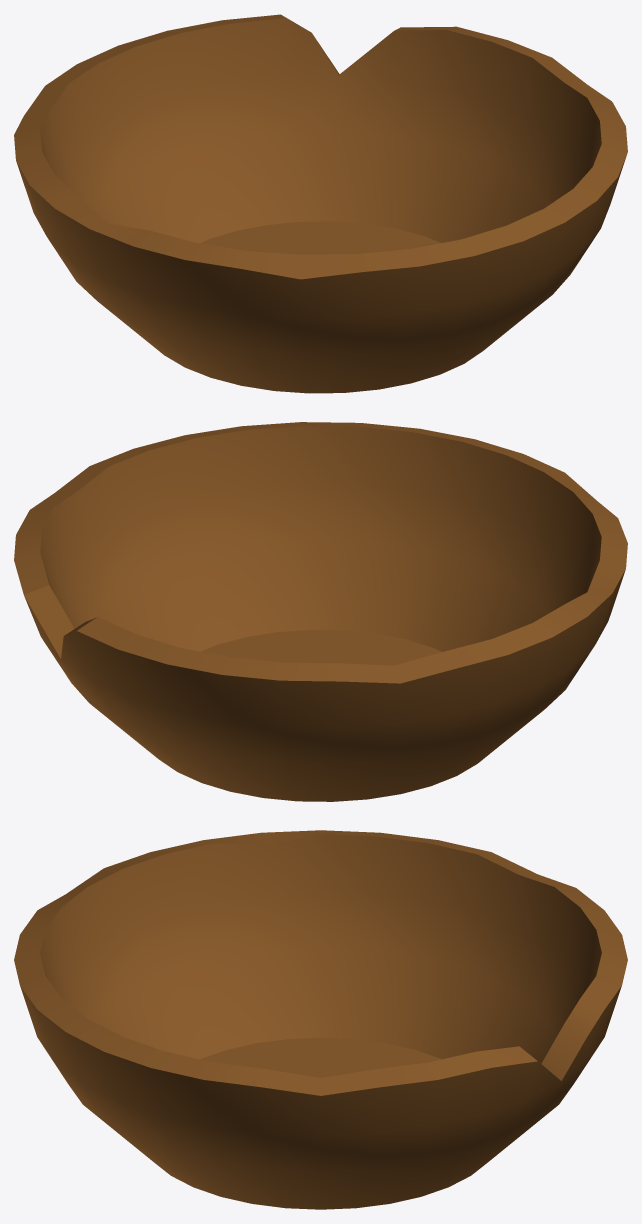
Rendered from decor_bowl1.fbx.
The picture shows the model from 3 angles, top to bottom: view 1: azimuth 30°, elevation 25°; view 2: azimuth 150°, elevation 25°; view 3: azimuth 270°, elevation 25°; orthographic projection.
Visible parts, largest first — view 1: decor_bowl1; view 2: decor_bowl1; view 3: decor_bowl1.
Boxes of the visible parts, <box> form: decor_bowl1: <box>14,14,627,393</box>; decor_bowl1: <box>14,422,627,801</box>; decor_bowl1: <box>14,830,627,1209</box>.
Bounding box in the file's own units: 38.73 × 12.57 × 38.73.
